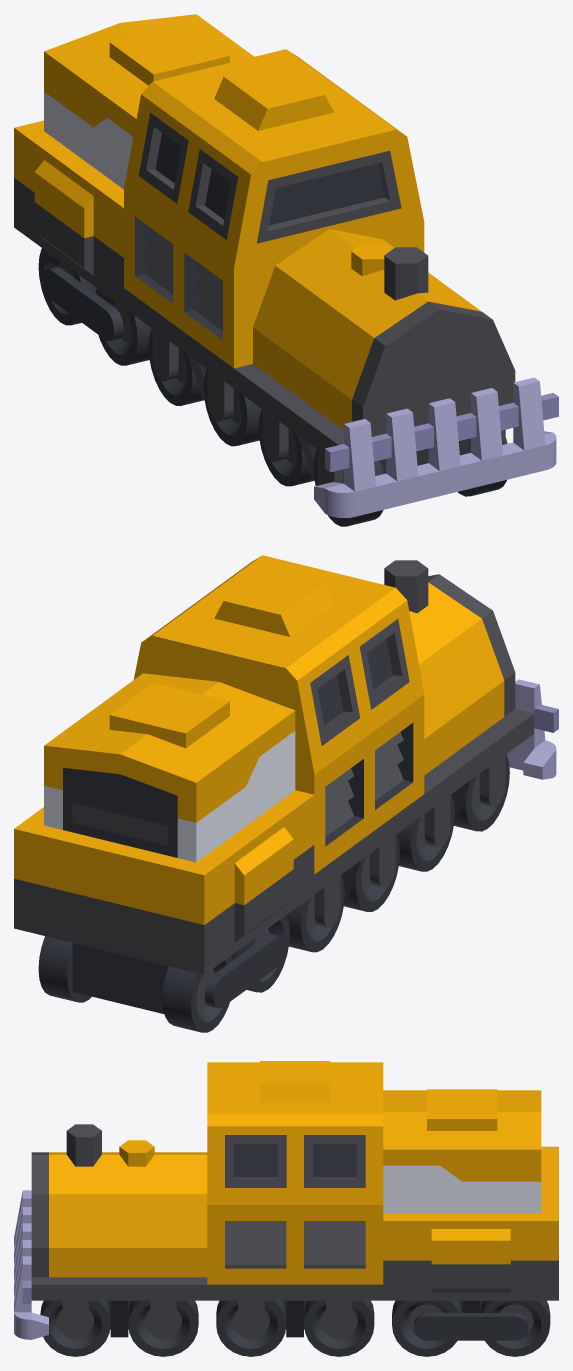
Rendered from Train.fbx.
The picture shows the model from 3 angles, top to bottom: view 1: azimuth 30°, elevation 25°; view 2: azimuth 150°, elevation 25°; view 3: azimuth 270°, elevation 25°; orthographic projection. The views are drawn at different scales.
Visible parts, largest first — view 1: diesel_cabin, steam_engine, bumper_grill, diesel_front_detailed, body_vents, body_detail, bogie (×2), wheels_simple (×3), bogie_beam; view 2: diesel_front_detailed, diesel_cabin, body_detail, steam_engine, wheels_simple (×3), bogie_beam, body_vents, bogie (×2), bumper_grill; view 3: diesel_cabin, steam_engine, diesel_front_detailed, body_detail, wheels_simple (×3), body_vents, bogie (×2), bogie_beam, bumper_grill.
Boxes of the visible parts, box(x1,y1,x2,y2) form: diesel_cabin: box(124, 49, 424, 268); steam_engine: box(253, 229, 515, 436); bumper_grill: box(314, 377, 558, 517); diesel_front_detailed: box(14, 14, 254, 227); body_vents: box(124, 188, 424, 368); body_detail: box(14, 120, 123, 307); bogie (×2): box(124, 288, 505, 485); wheels_simple (×3): box(38, 248, 507, 526); bogie_beam: box(14, 208, 123, 341); diesel_front_detailed: box(14, 673, 314, 894); diesel_cabin: box(133, 555, 424, 774); body_detail: box(14, 790, 314, 974); steam_engine: box(384, 560, 515, 775); wheels_simple (×3): box(38, 754, 509, 1032); bogie_beam: box(14, 875, 314, 1014); body_vents: box(295, 695, 424, 874); bogie (×2): box(314, 709, 534, 927); bumper_grill: box(506, 679, 558, 779); diesel_cabin: box(207, 1061, 383, 1204); steam_engine: box(31, 1124, 207, 1277); diesel_front_detailed: box(383, 1089, 558, 1236); body_detail: box(383, 1146, 558, 1300); wheels_simple (×3): box(40, 1300, 550, 1356); body_vents: box(207, 1205, 383, 1284); bogie (×2): box(31, 1277, 383, 1340); bogie_beam: box(383, 1284, 558, 1340); bumper_grill: box(14, 1190, 48, 1339).
Size of the model in its own units: 12 by 16 by 31.
